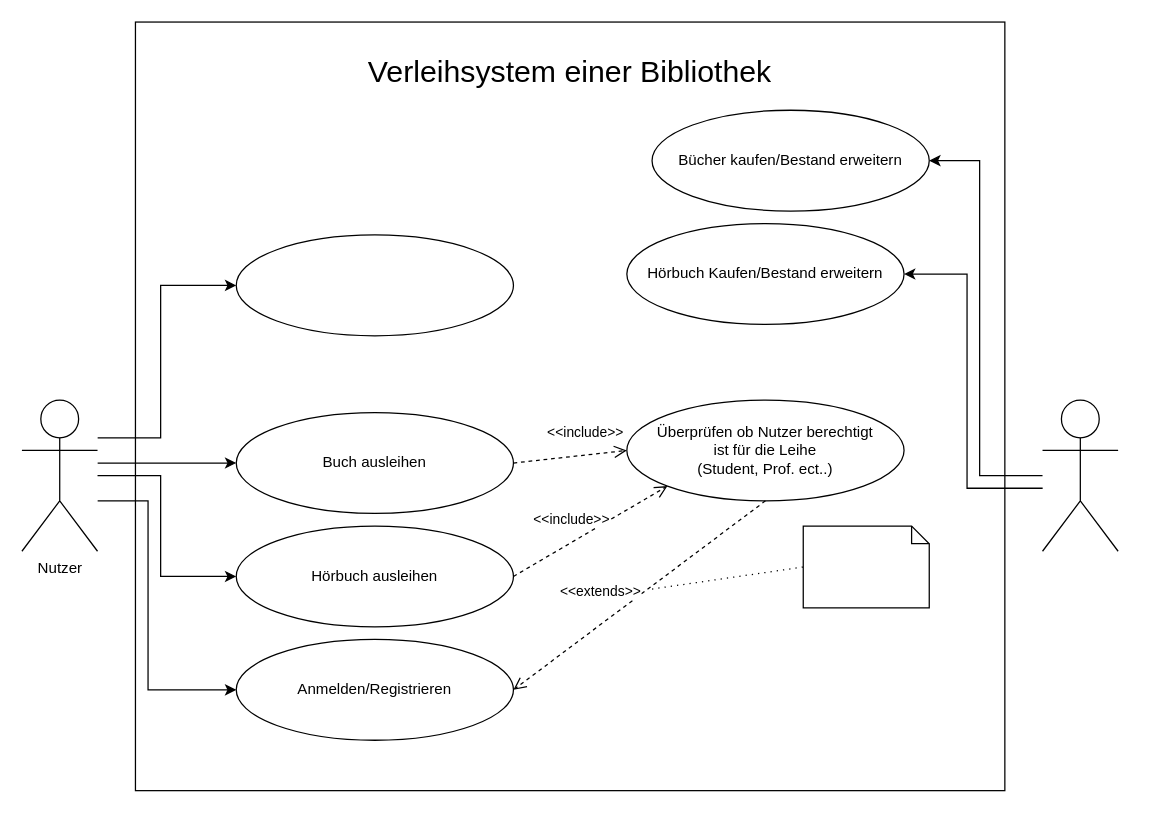
Image size: 1157x813. Some labels were removed from this diagram. The box of each missing label's shape, as (x1, y1, x2, y2) in pixels:
Bibliothek wechseln: (235, 234, 513, 336)
Bibliothekar/-inn: (1041, 399, 1118, 551)
Der Kunde ist nicht Angemeldet: (802, 525, 929, 608)
